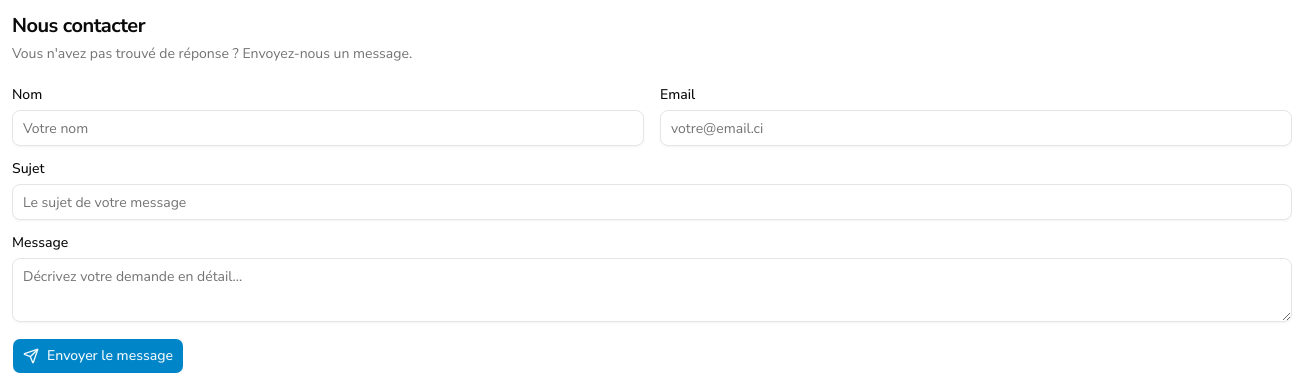
Test case: ContactForm › shows success message after successful submission
The width and height of the screenshot is (1304, 391).
Step 1. Type "Kouamé" into the field labelled "Nom" → (328, 128), box [12,110,644,146]
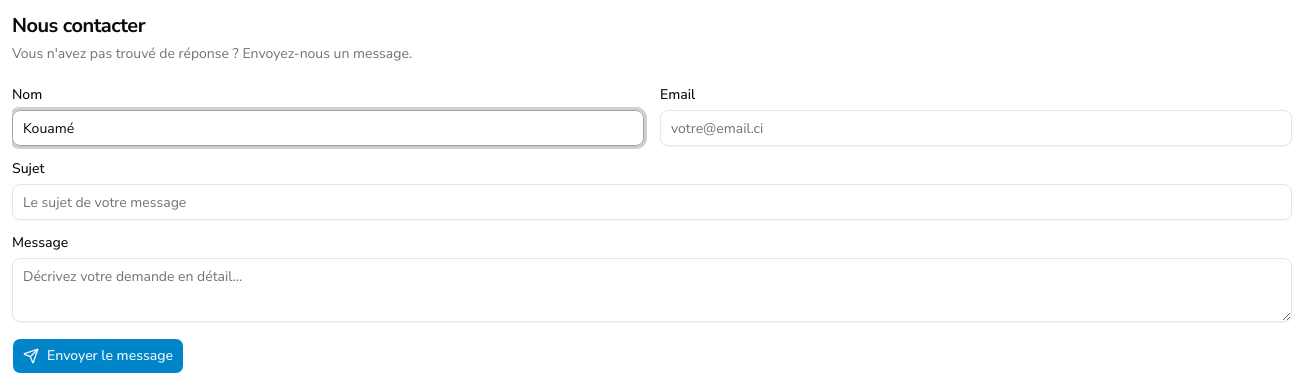
Step 2. Type "k@t.ci" into the field labelled "Email" → (976, 128), box [660,110,1292,146]
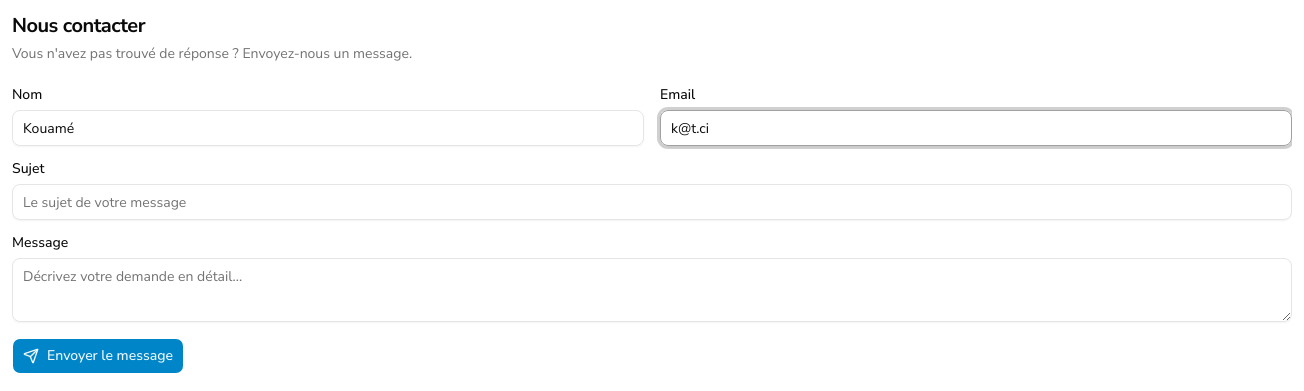
Step 3. Type "Question test" into the field labelled "Sujet" → (652, 202), box [12,184,1292,220]
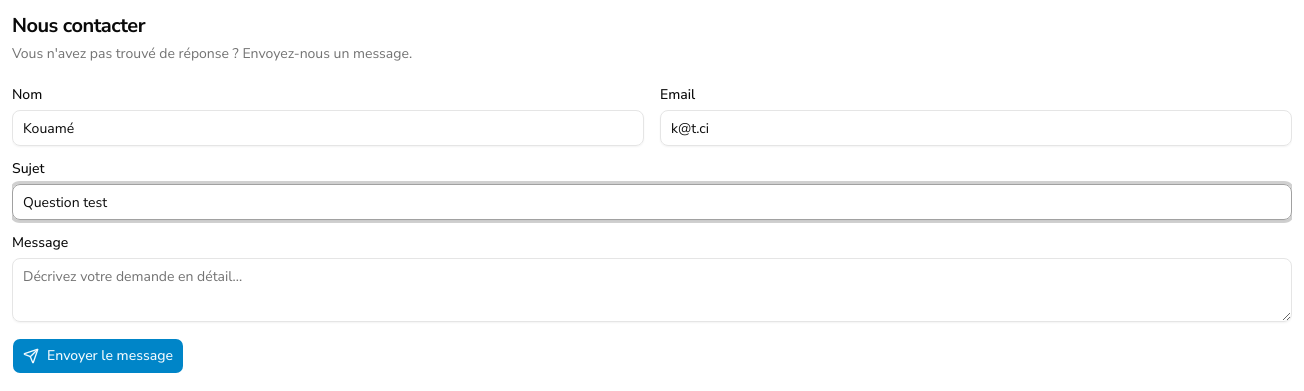
Step 4. Type "Un message de test assez long" into the text box labelled "Message" → (652, 290), box [12,258,1292,322]
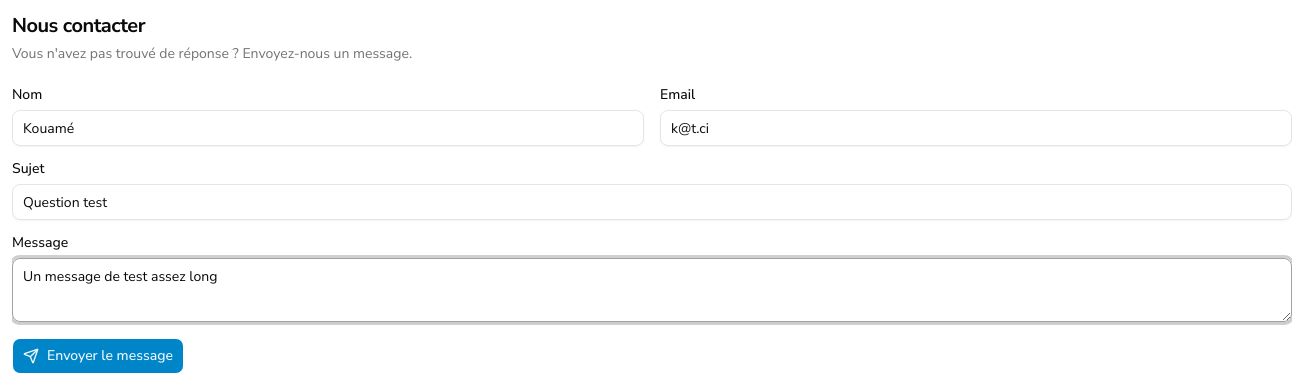
Step 5. Click the button "Envoyer le message" → (98, 356), box [12,338,184,374]
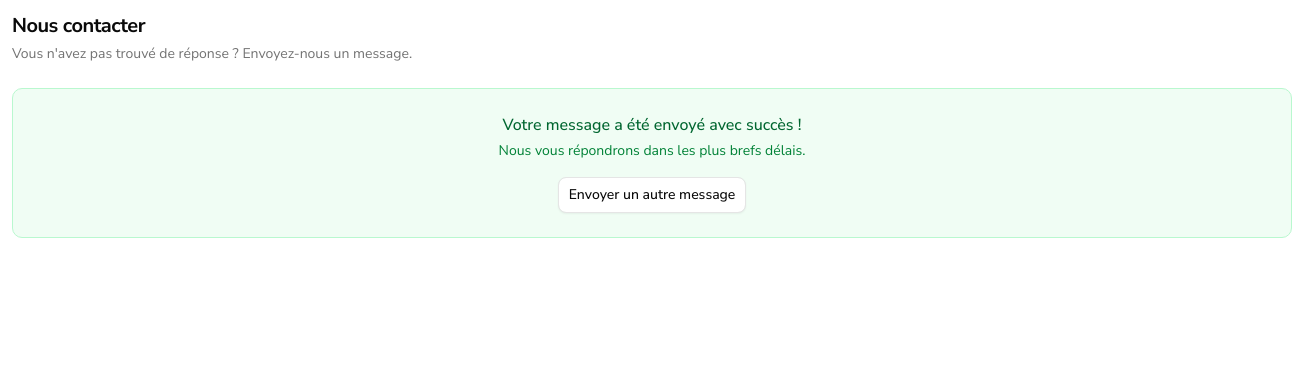
expect the text "Votre message a été envoyé avec succès !" is shown: met, box [502,114,801,136]
